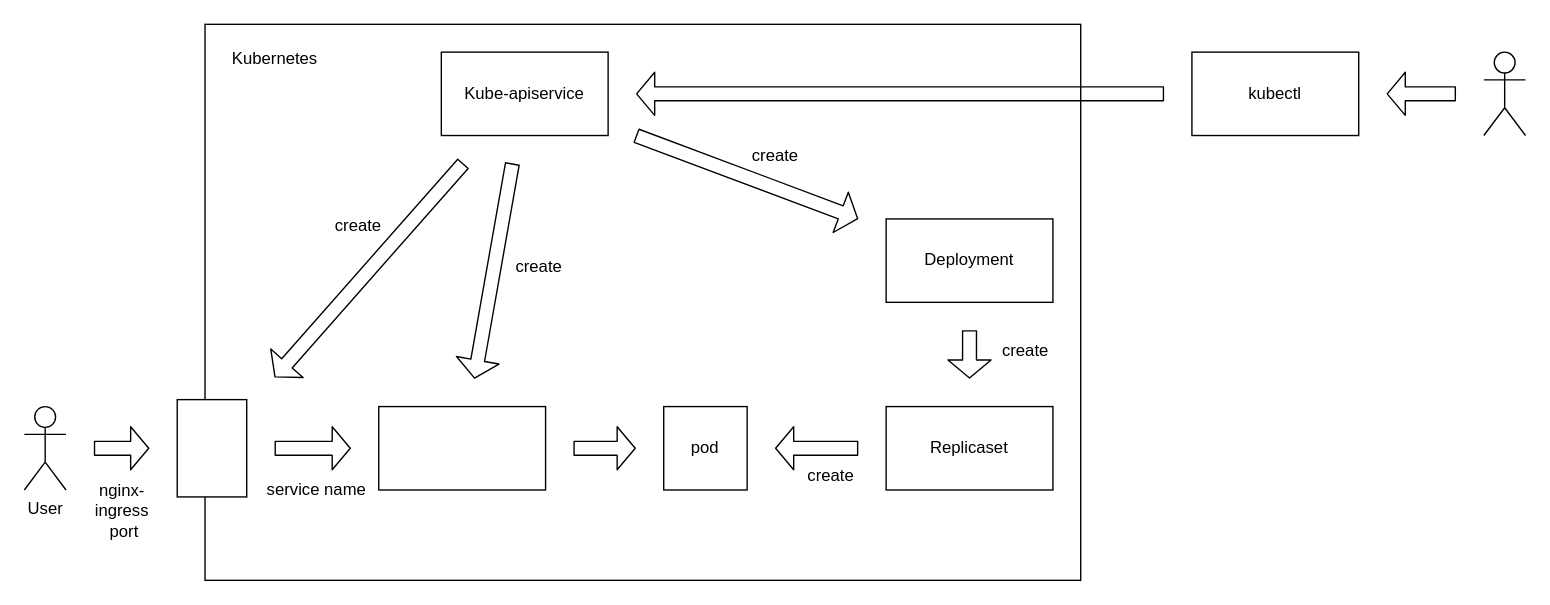
The diagram is 1550 pixels wide and 605 high, and some of its shapes have lost their labels. Each missing label, with the box of its shape:
Dev: (1482, 51, 1526, 136)
nginx-ingress: (176, 398, 247, 497)
service: (377, 405, 546, 490)
